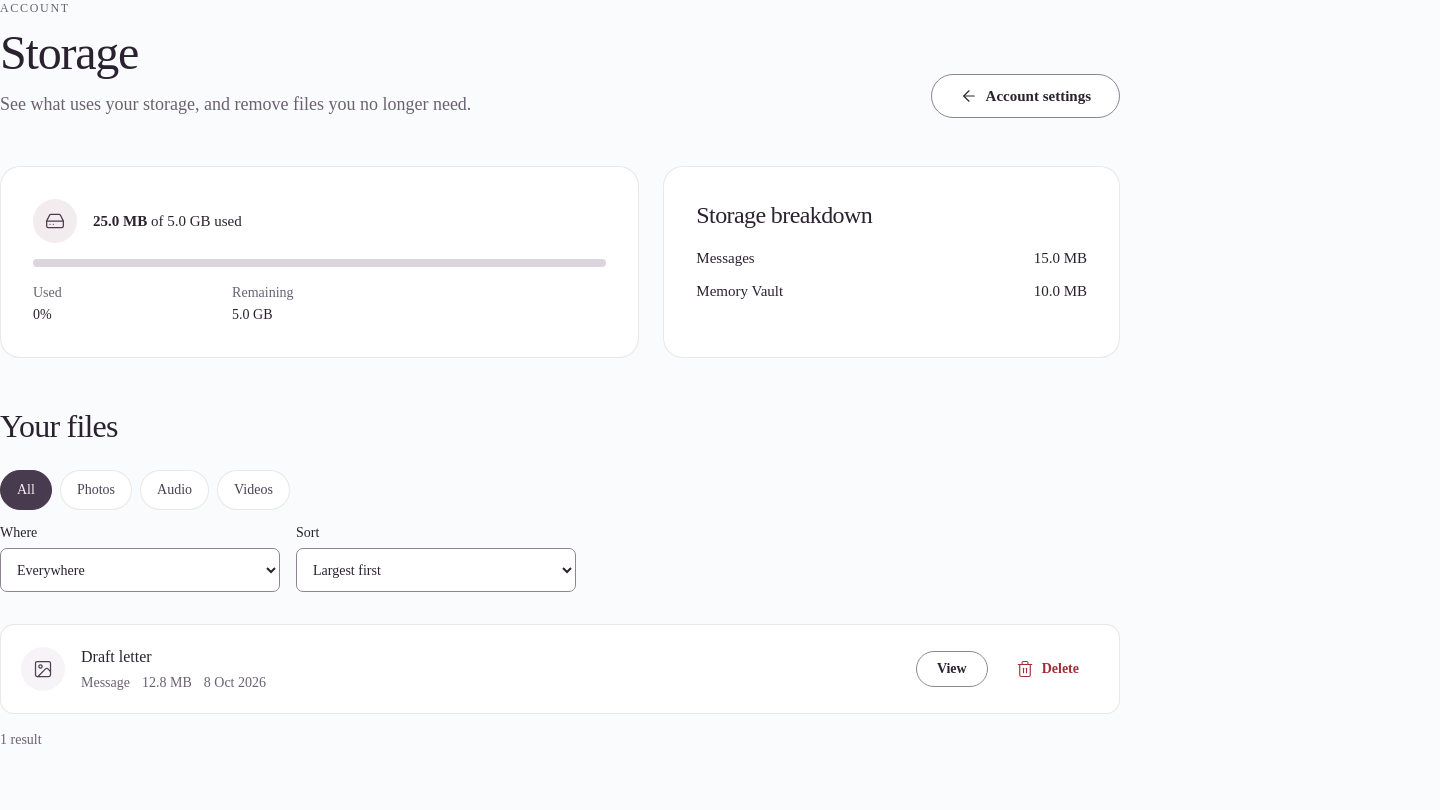
Storage Manager › a refused delete (e.g. the message was scheduled meanwhile) keeps the dialog open with the reason
The width and height of the screenshot is (1440, 810).
Step 1. Click the button with aria-label "Delete: Draft letter" → (1047, 669), box [996, 651, 1099, 687]
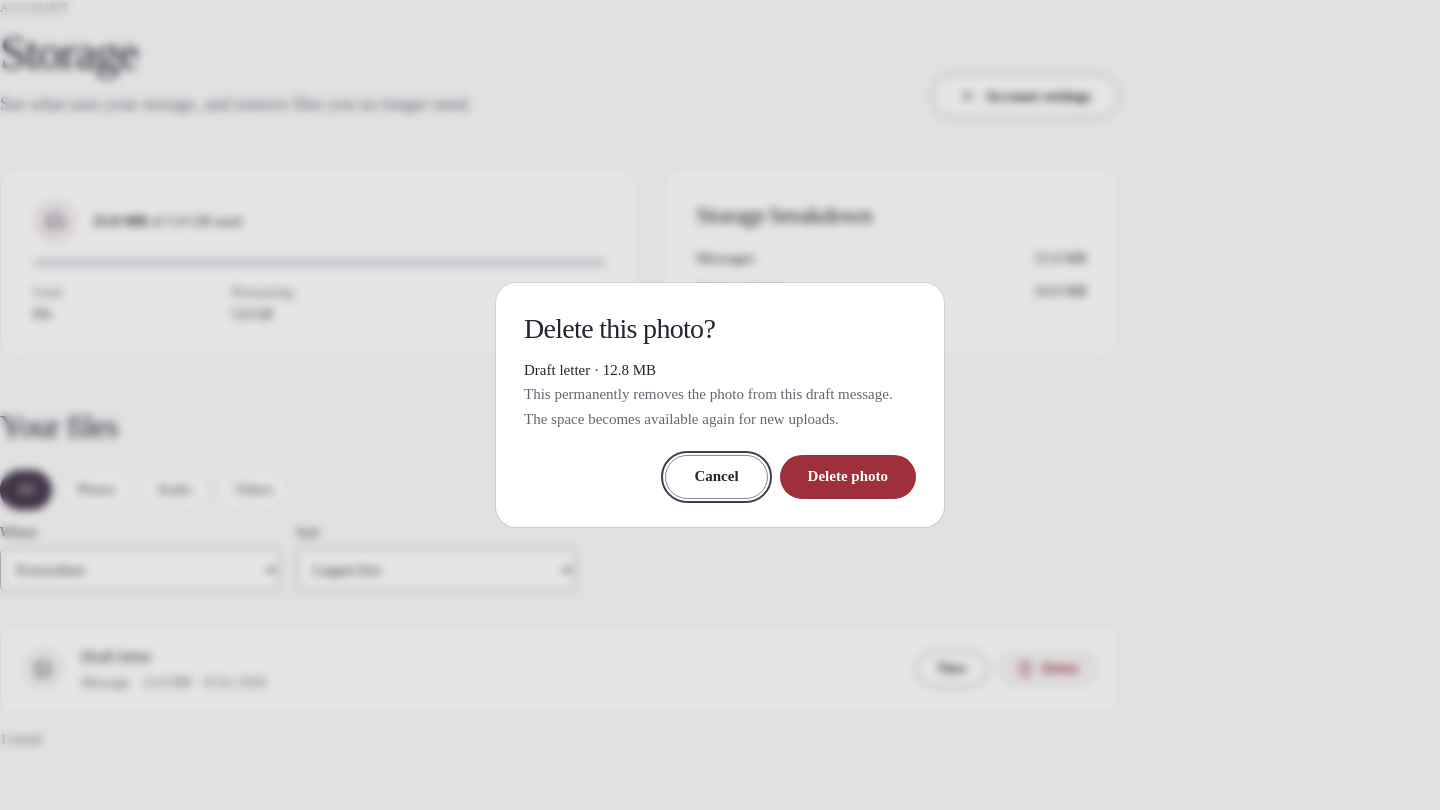
Expected: the dialog shows "from this draft message", [524, 386, 893, 402]
Step 2. Click the button "Delete photo" → (848, 477), box [780, 455, 916, 499]
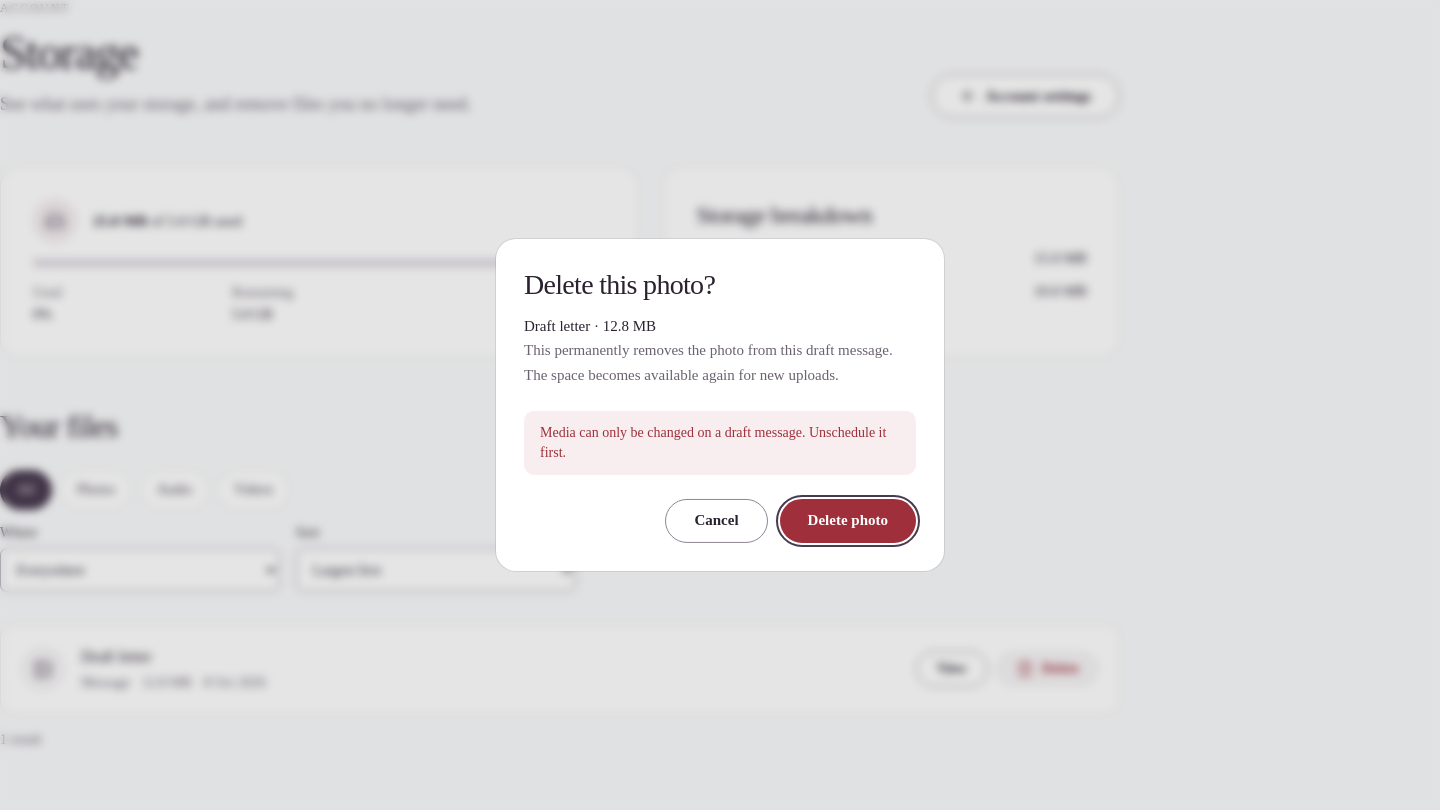
Expected: the message shows "Unschedule it first.", [540, 425, 886, 460]
